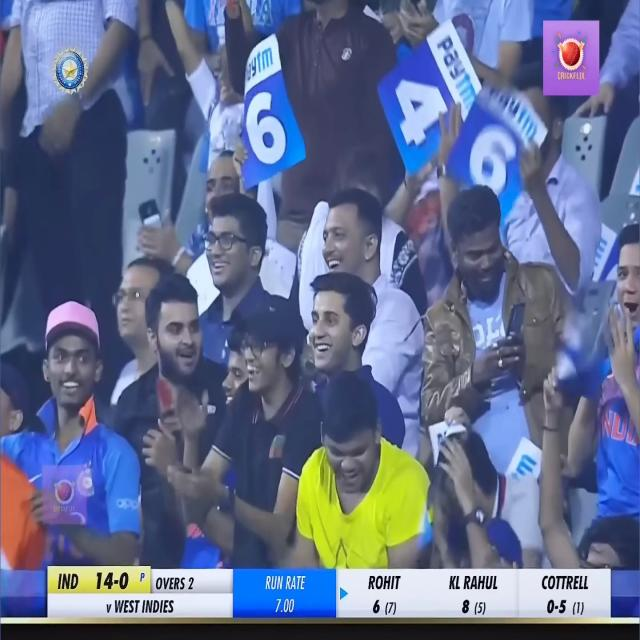fully_visible: (483, 68, 558, 150), (420, 26, 484, 120)
partially_visible: (498, 424, 546, 495), (221, 45, 289, 88)
